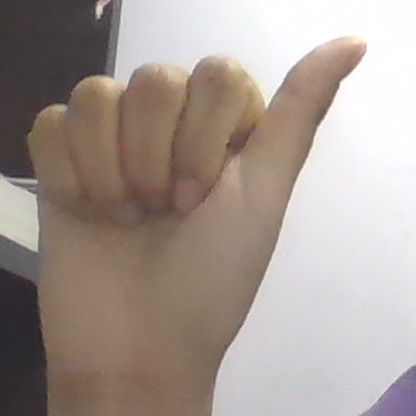A: (27, 38, 366, 379)
